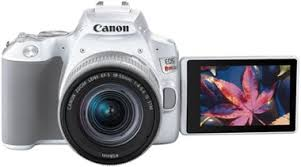camera: (3, 5, 181, 162)
